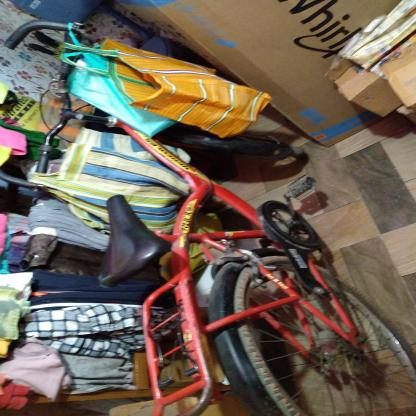bike: (3, 16, 403, 416)
